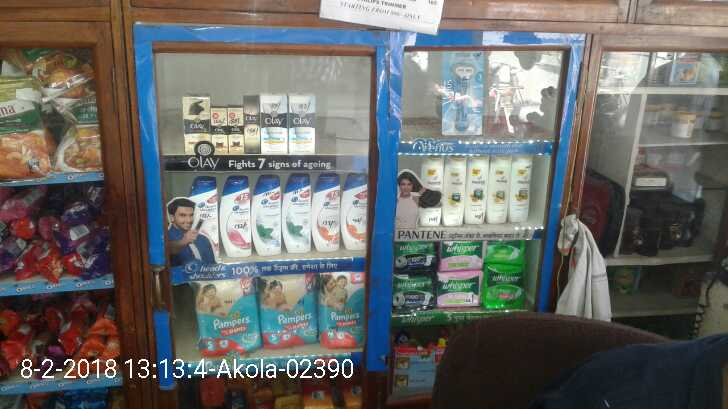venus: (443, 53, 484, 136)
